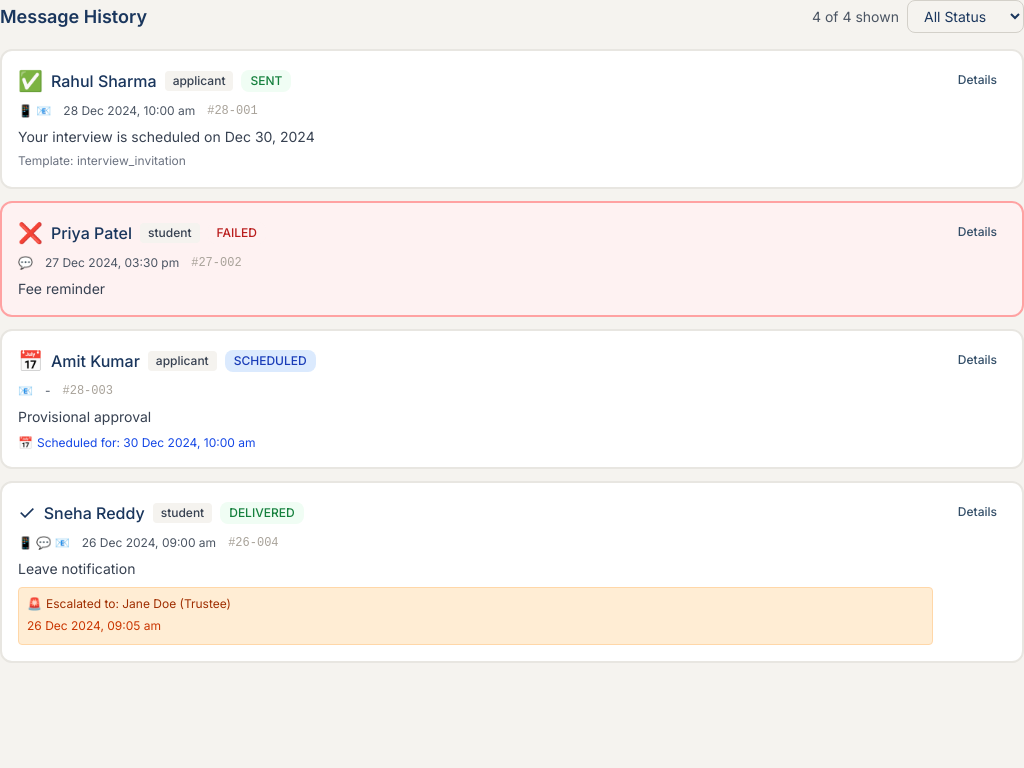
Scenario: Task 14 - Embedded Communication Patterns › MessageLog Component › expands entry details
The width and height of the screenshot is (1024, 768).
Click the button with test id "details-button-log-001": (977, 80) [949,67,1006,93]
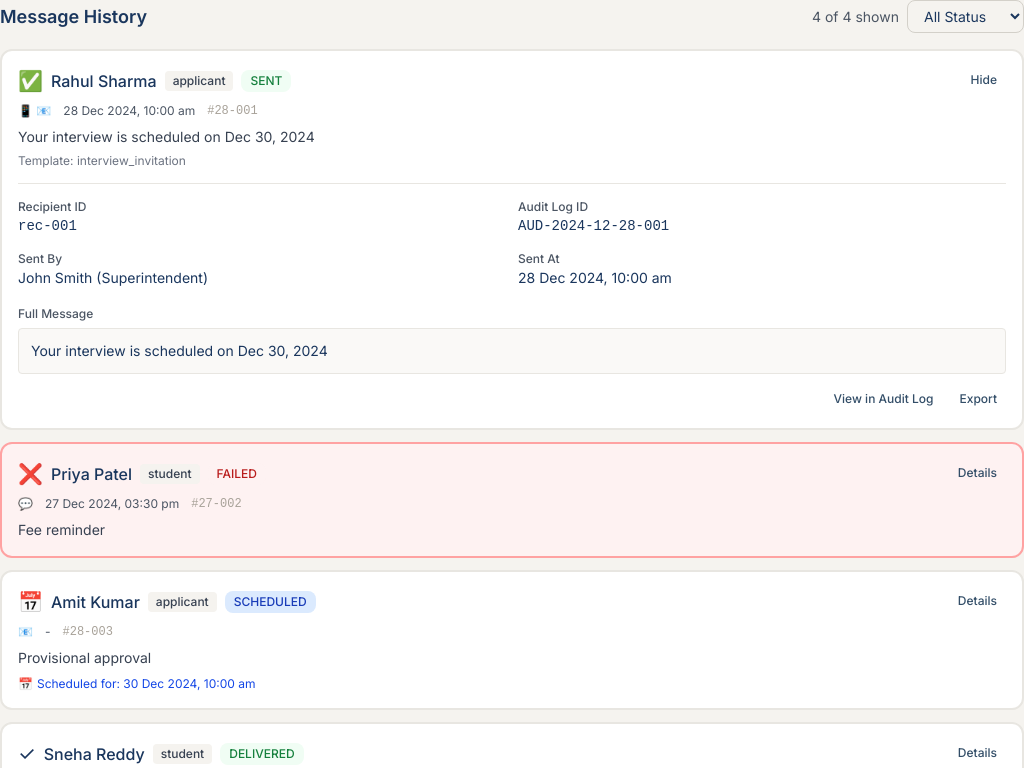
Expected: the element with test id "expanded-details-log-001" is shown, [18,183,1006,412]
